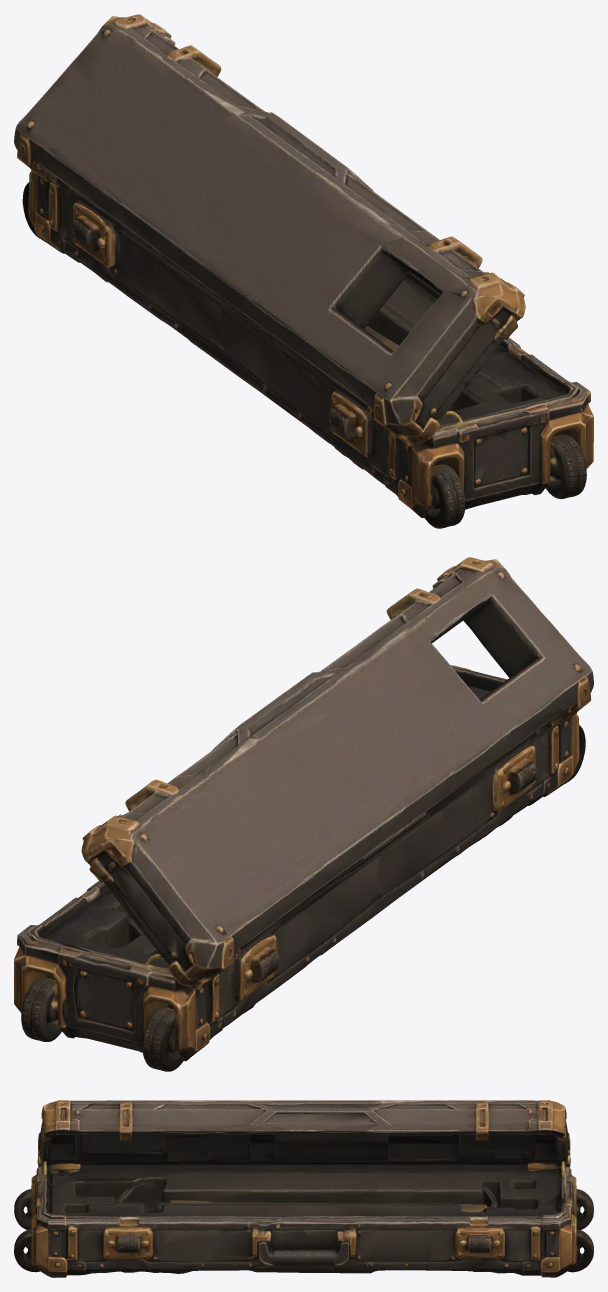
File: drift-vault-case.glb
3 renders of one model, top to bottom at view 1: azimuth 30°, elevation 25°; view 2: azimuth 150°, elevation 25°; view 3: azimuth 270°, elevation 25°, orthographic. The views are drawn at different scales.
Visible parts, largest first — view 1: tripo_node_bf965d6e-f274-4fa4-963d-e022ae99dd17; view 2: tripo_node_bf965d6e-f274-4fa4-963d-e022ae99dd17; view 3: tripo_node_bf965d6e-f274-4fa4-963d-e022ae99dd17.
Part boxes in pixels (<box>): tripo_node_bf965d6e-f274-4fa4-963d-e022ae99dd17: <box>14,14,593,528</box>; tripo_node_bf965d6e-f274-4fa4-963d-e022ae99dd17: <box>14,557,593,1071</box>; tripo_node_bf965d6e-f274-4fa4-963d-e022ae99dd17: <box>14,1100,593,1277</box>.
Size of the model in its own units: 0.2975 by 0.2828 by 0.9999.
1 material, 1 textured.
